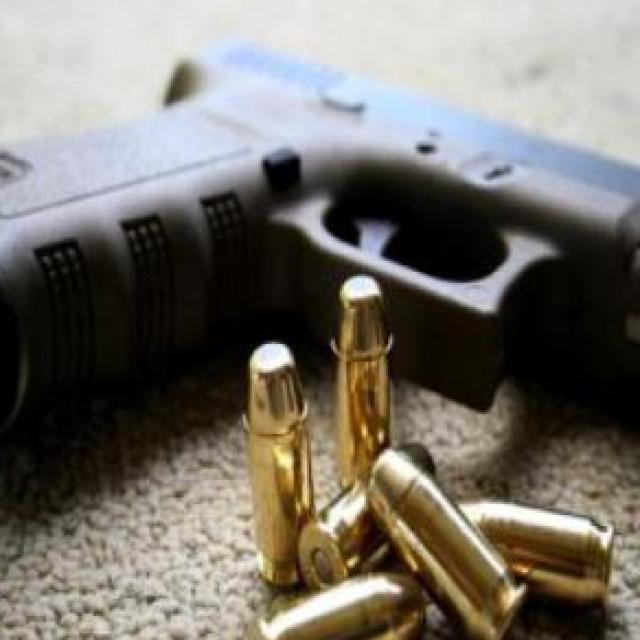pistol: (0, 39, 638, 480)
